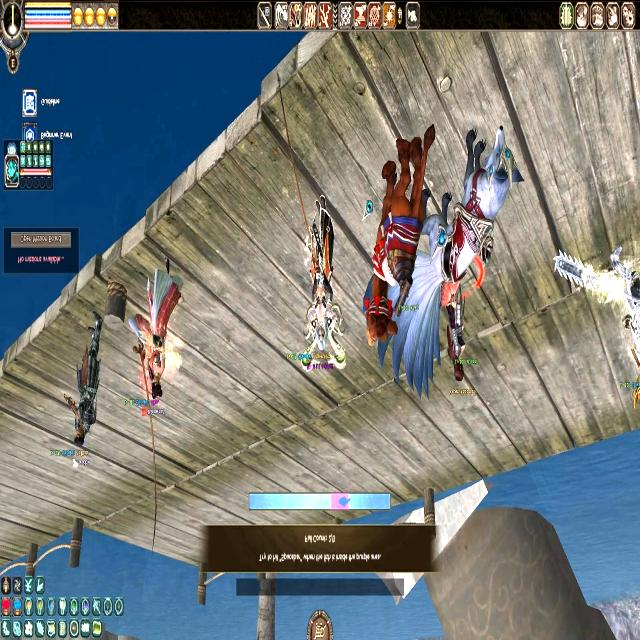fishes: (336, 495, 350, 509)
